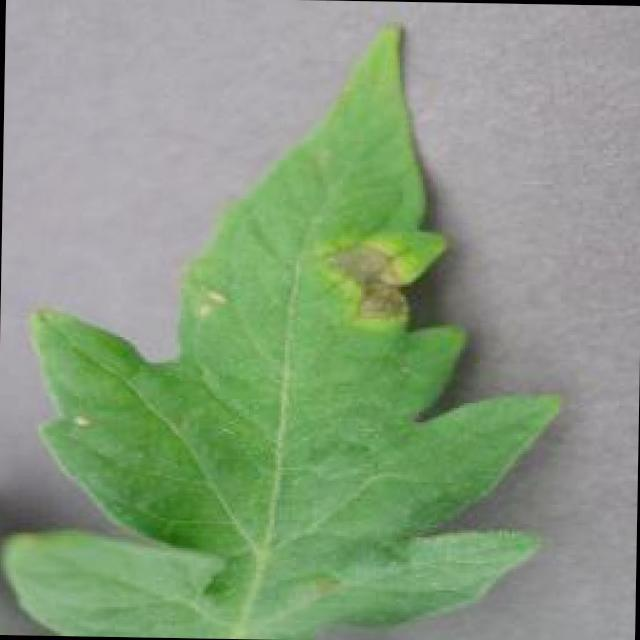Tomato late blight leaf: (2, 11, 573, 640)
